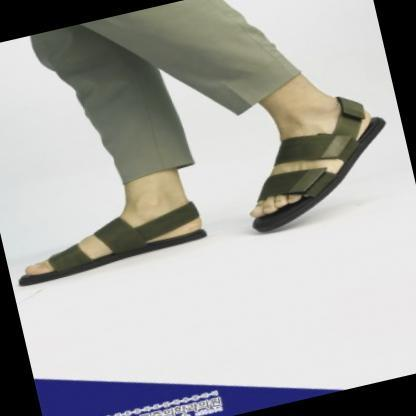no_safety-shoe: (223, 80, 411, 263), (18, 198, 220, 297)
